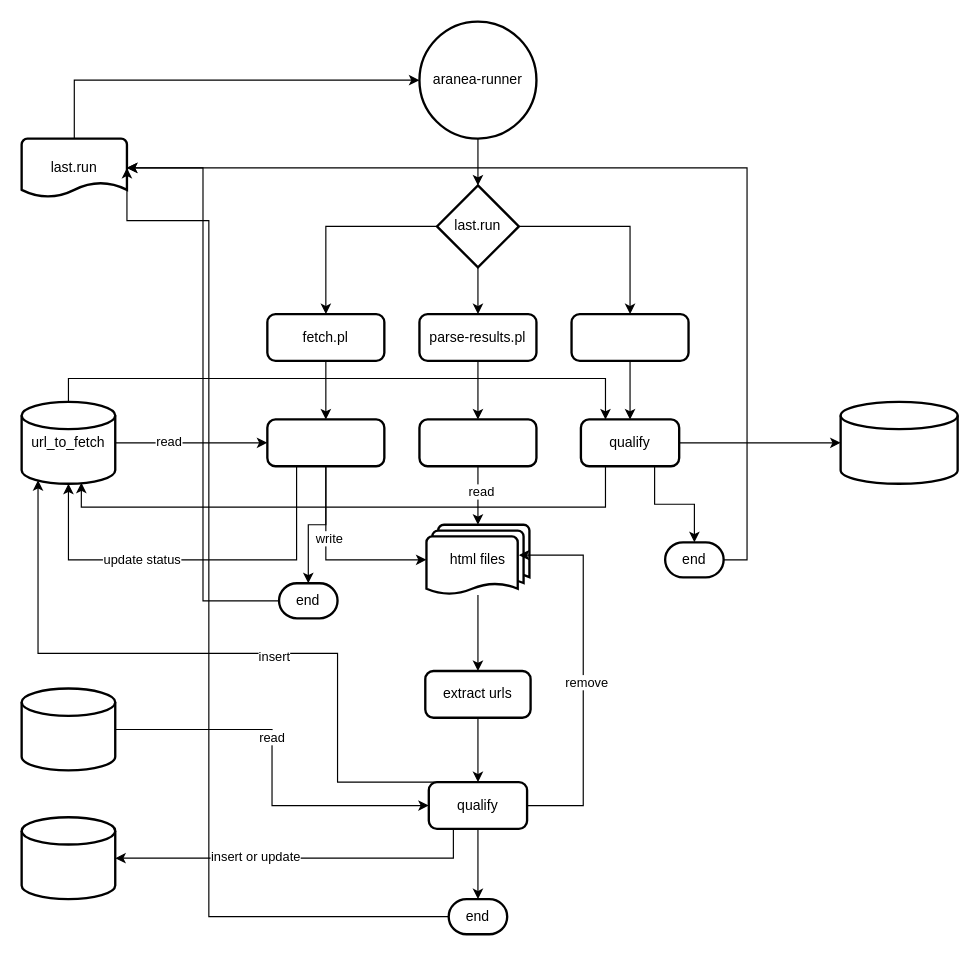
Some shapes in this 978 by 955 pixel diagram are drawn without their labels. Here are the shapes that lost their labels. From the top down, the box of each, then its label:
(570, 312, 689, 362): cleanup.pl
(266, 418, 385, 467): fetch
(418, 418, 537, 467): parse
(839, 400, 958, 484): unique_domain
(20, 687, 116, 771): url_to_ignore
(20, 815, 116, 900): url_origin
